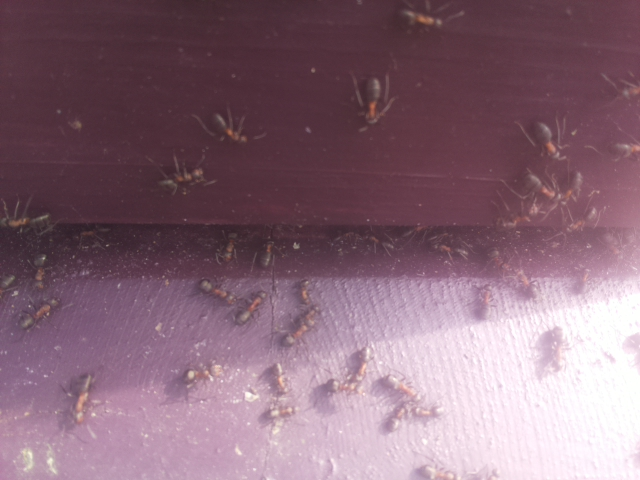ant: (330, 340, 380, 397), (522, 111, 567, 169), (149, 159, 215, 198), (278, 300, 324, 354), (11, 291, 67, 335), (227, 283, 276, 331), (349, 74, 392, 128), (174, 357, 230, 394), (515, 166, 565, 207), (190, 272, 242, 310), (388, 4, 450, 34), (376, 369, 425, 405), (67, 371, 97, 426), (205, 111, 252, 145), (541, 325, 573, 374), (561, 203, 602, 234), (0, 209, 52, 233), (214, 225, 243, 265), (255, 232, 282, 272), (382, 398, 408, 438), (254, 402, 295, 427), (29, 246, 50, 293), (416, 460, 458, 480), (474, 282, 496, 319), (561, 168, 584, 203), (567, 267, 593, 296), (270, 360, 288, 400)
